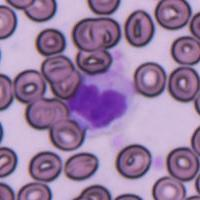M: (64, 69, 138, 134)
